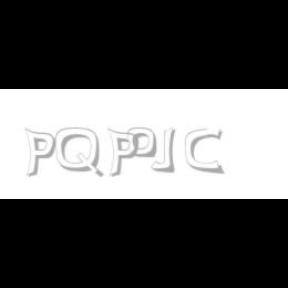C: (186, 128, 222, 174)
J: (150, 128, 176, 172)
P: (24, 128, 56, 178), (107, 128, 139, 178)
Q: (56, 128, 102, 178)
o: (128, 128, 156, 158)
